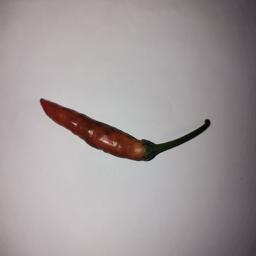Buah Cabai Sehat: (38, 96, 159, 162)
